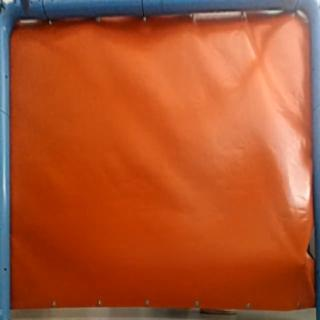Hit-hRxx: (296, 254, 311, 268)
